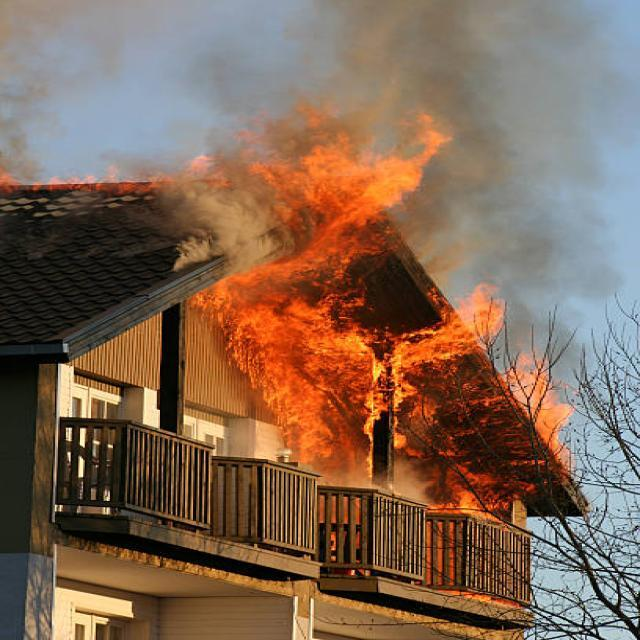Fire: (186, 108, 497, 499), (512, 356, 586, 468)
Smoke: (240, 0, 578, 281)
